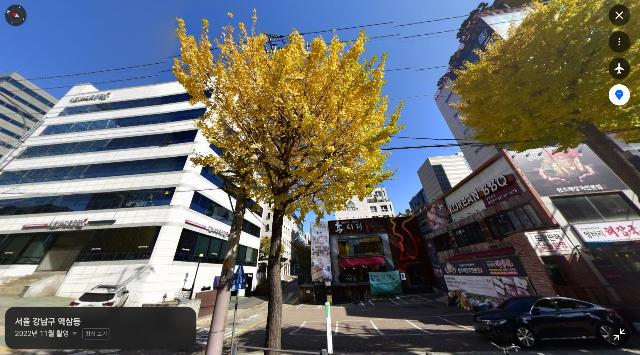ginkgo: (171, 8, 406, 355), (444, 0, 640, 208)
